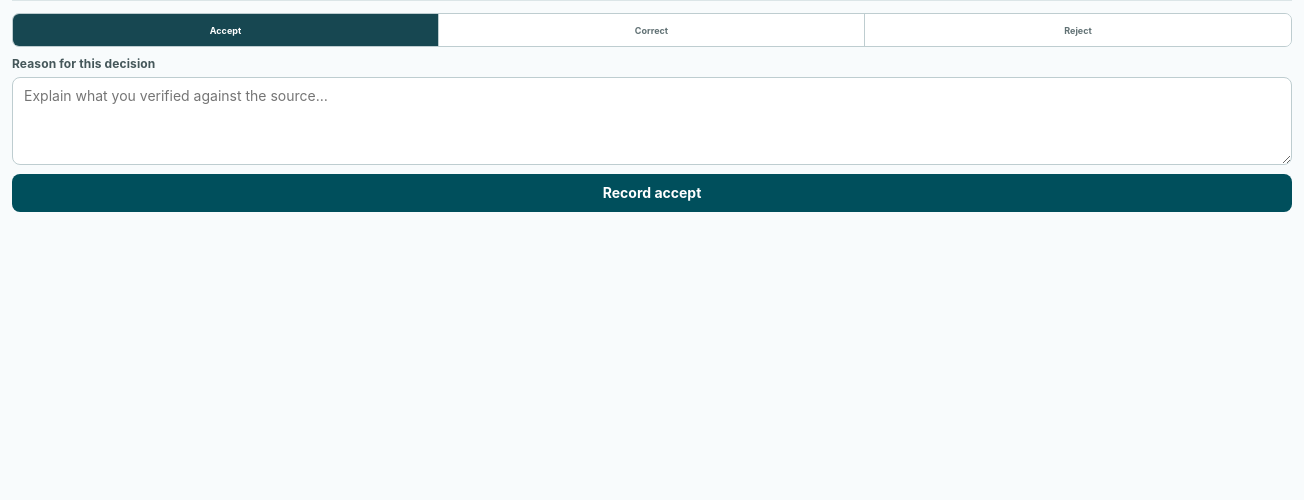
Scenario: evidence review › prevents a correction with invalid normalized JSON
Step 1. Click the button "Correct" → [652, 30], box [439,14,865,46]
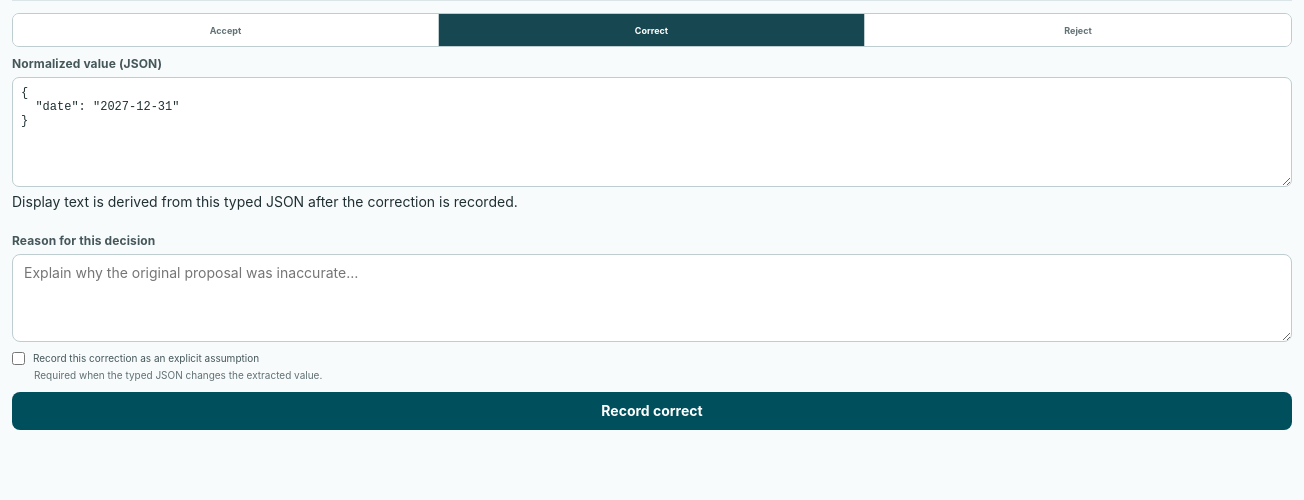
Step 2. Replace the text in the text box labelled "Normalized value (JSON)" with "not-json" → [652, 132], box [12,77,1292,187]
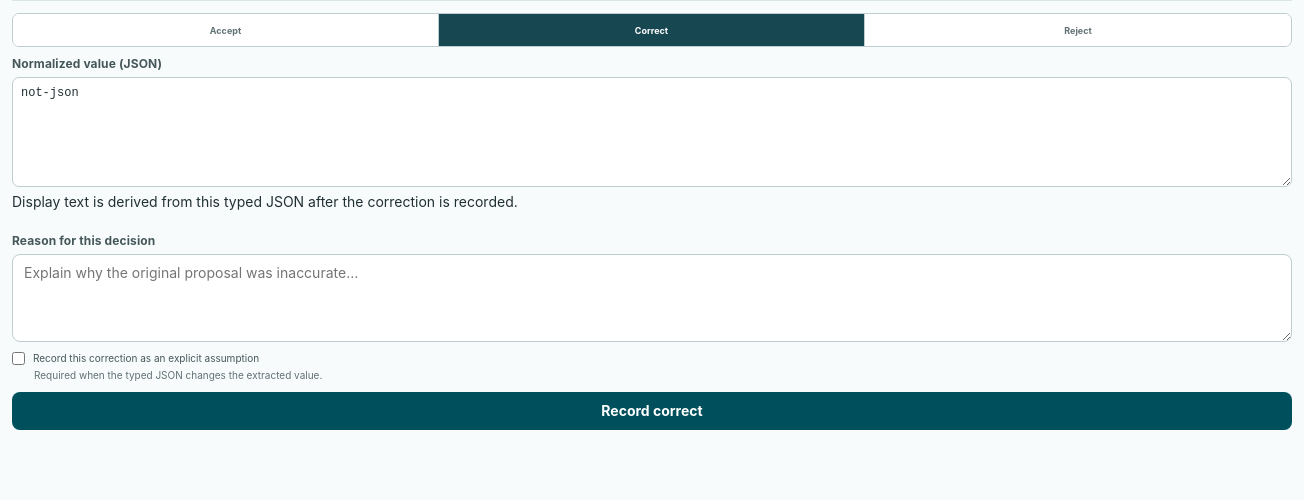
Step 3. Type "The extracted date is wrong." into the text box labelled "Reason for this decision" → [652, 298], box [12,254,1292,342]
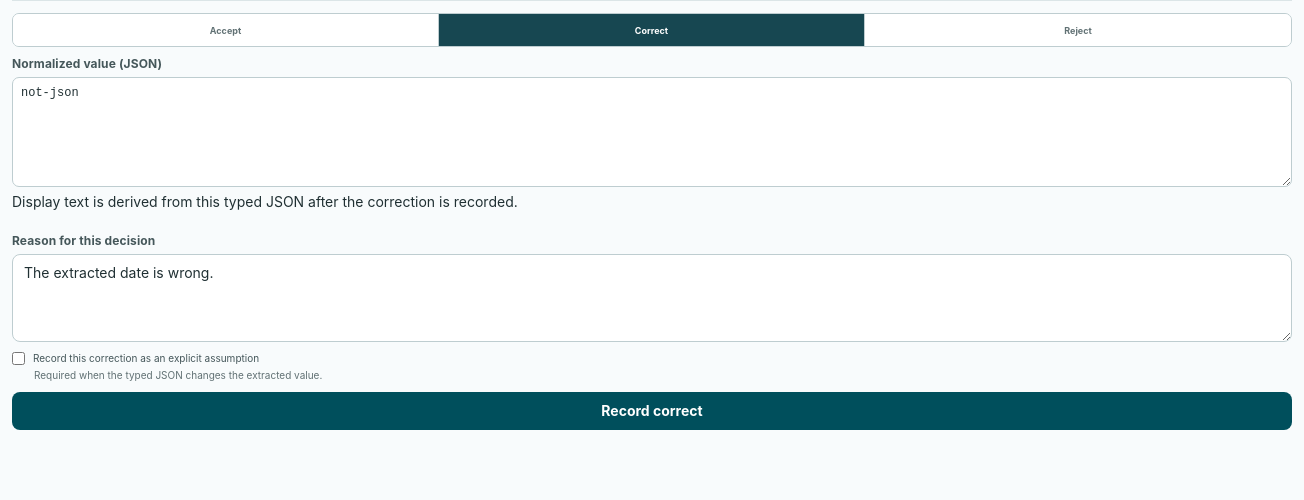
Step 4. Click the button "Record correct" → [652, 411], box [12,392,1292,430]
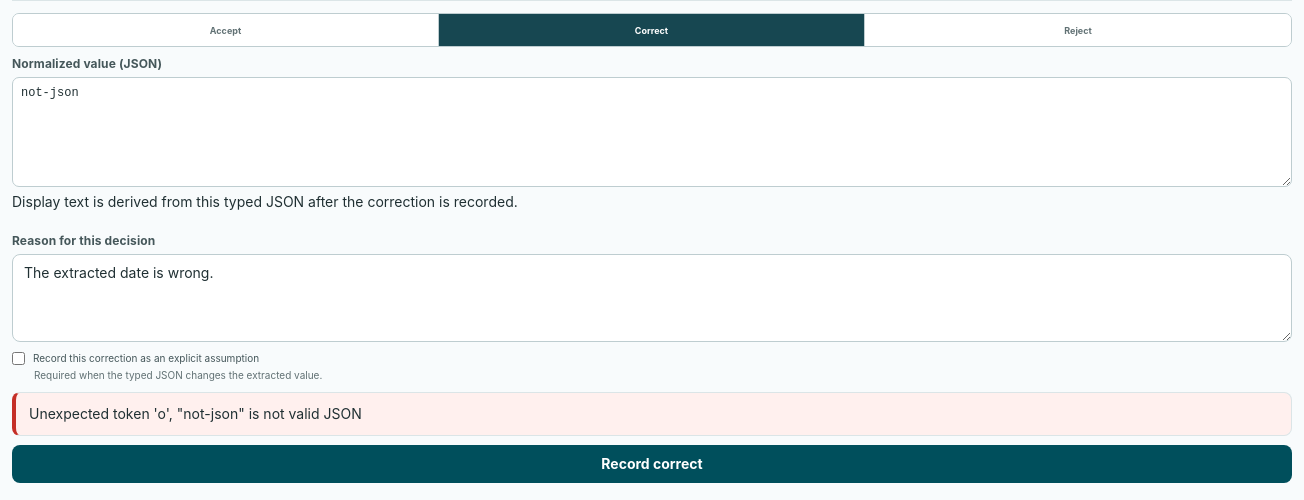
Now the message reads "Unexpected token 'o', \"not-json\" is not valid JSON", box [29,405,362,422]
